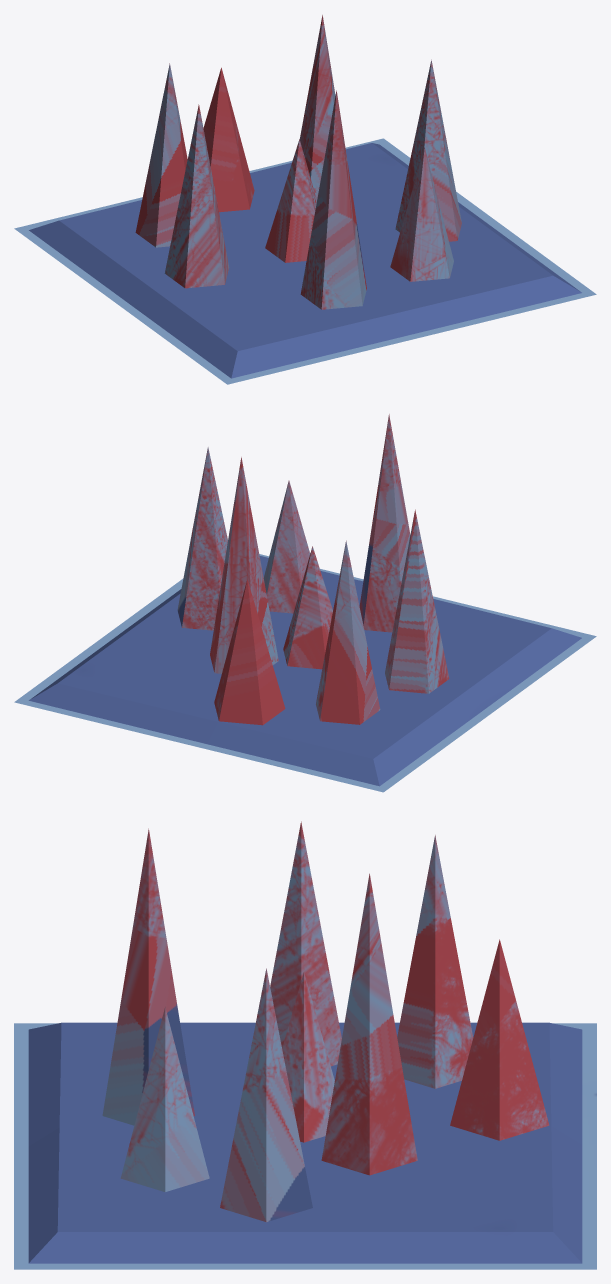
File: 3D_trap_ice_spikes.fbx
3 views of the same model, one above another, from view 1: azimuth 30°, elevation 25°; view 2: azimuth 150°, elevation 25°; view 3: azimuth 270°, elevation 25° (orthographic). The views are drawn at different scales.
Visible parts, largest first — view 1: SM_trap_spikes_base, SM_spikes_blood; view 2: SM_trap_spikes_base, SM_spikes_blood; view 3: SM_trap_spikes_base, SM_spikes_blood.
Boxes of the visible parts, x1,y1,x2,y2 form: SM_trap_spikes_base: (14, 138, 596, 384); SM_spikes_blood: (135, 15, 461, 309); SM_trap_spikes_base: (14, 554, 596, 792); SM_spikes_blood: (177, 414, 449, 725); SM_trap_spikes_base: (14, 1022, 596, 1269); SM_spikes_blood: (102, 821, 549, 1222).
Bounding box in the file's own units: 100 × 60.74 × 100.
2 materials, 2 textured.
